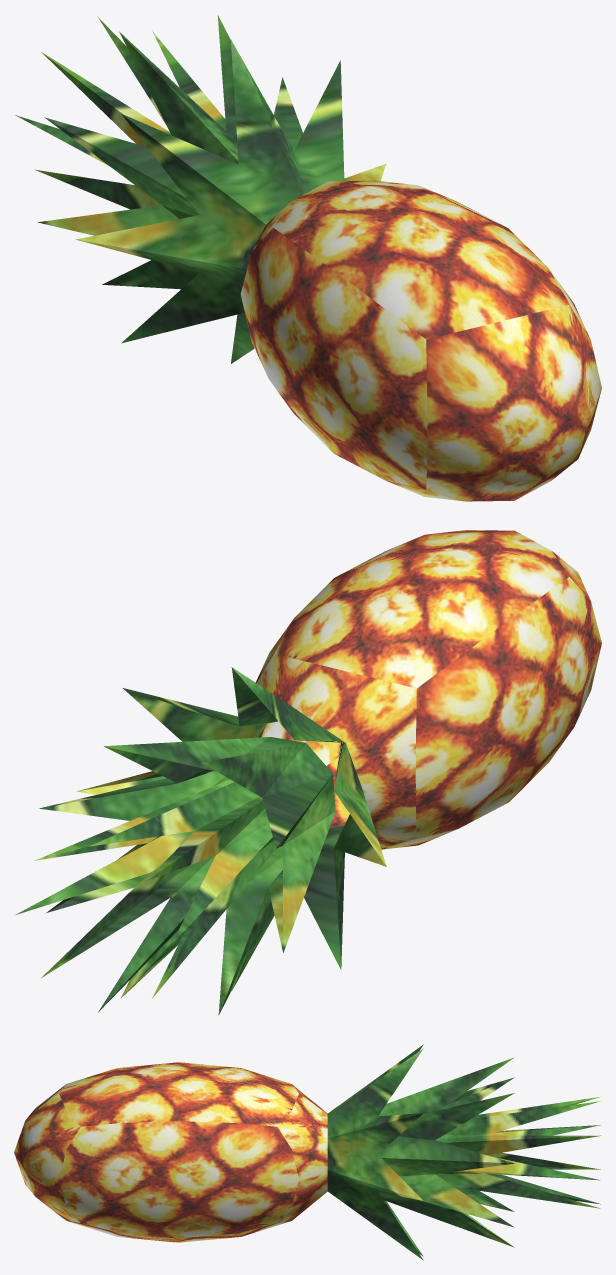
Rendered from AMMO_ananas.fbx.
3 views of the same model, one above another, from view 1: azimuth 30°, elevation 25°; view 2: azimuth 150°, elevation 25°; view 3: azimuth 270°, elevation 25° (orthographic). The views are drawn at different scales.
Parts seen in each view (by area): view 1: ananasammo; view 2: ananasammo; view 3: ananasammo.
Part boxes in pixels (x1=…): ananasammo: x1=15, y1=15, x2=601, y2=501; ananasammo: x1=15, y1=530, x2=601, y2=1015; ananasammo: x1=14, y1=1044, x2=601, y2=1260.
Size of the model in its own units: 1506 by 1506 by 3839.
